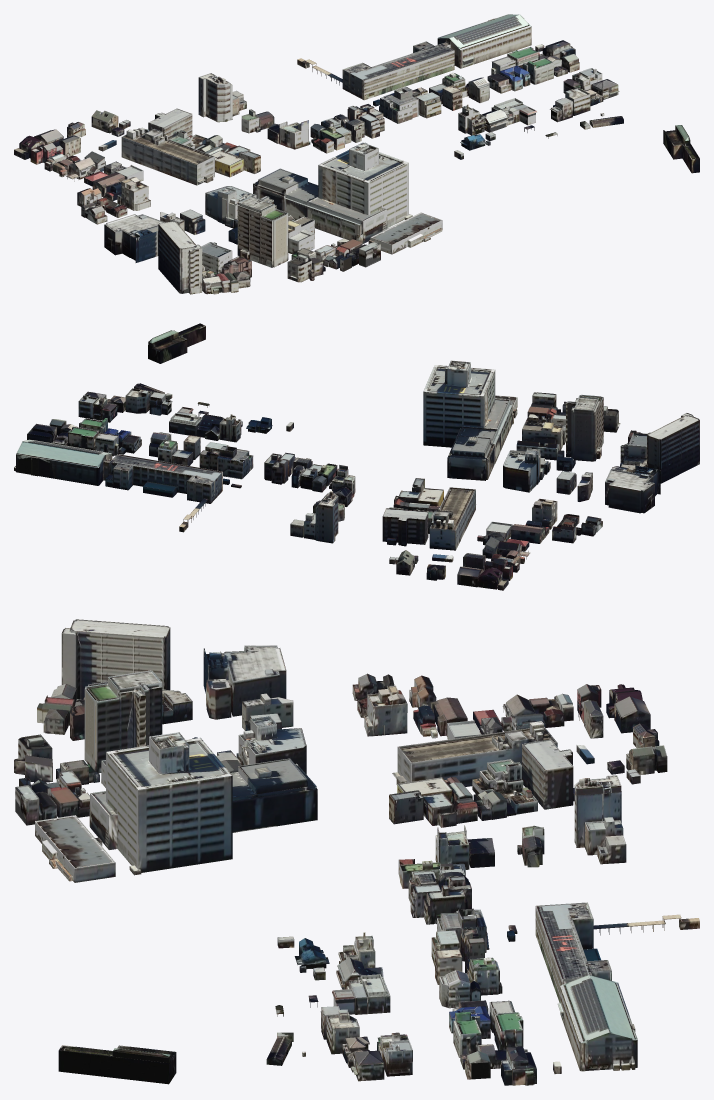
The model's file is lod3-station-5-2-packed.glb.
The picture shows the model from 3 angles, top to bottom: view 1: azimuth 30°, elevation 25°; view 2: azimuth 150°, elevation 25°; view 3: azimuth 270°, elevation 25°; orthographic projection. The views are drawn at different scales.
Bounding box in the file's own units: 347 × 42.83 × 248.
Materials: 14 (13 with a texture image).
